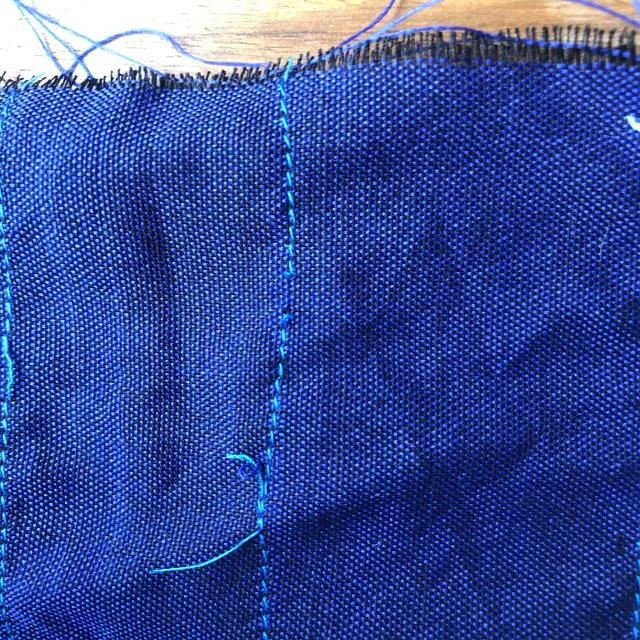broken: (254, 227, 318, 340)
